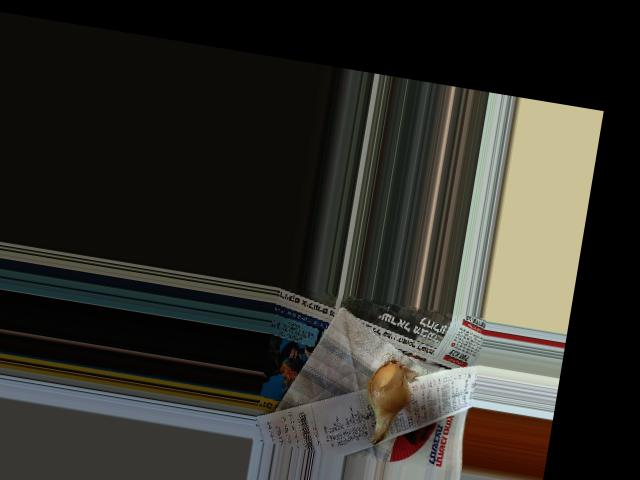onion: (359, 356, 412, 424)
